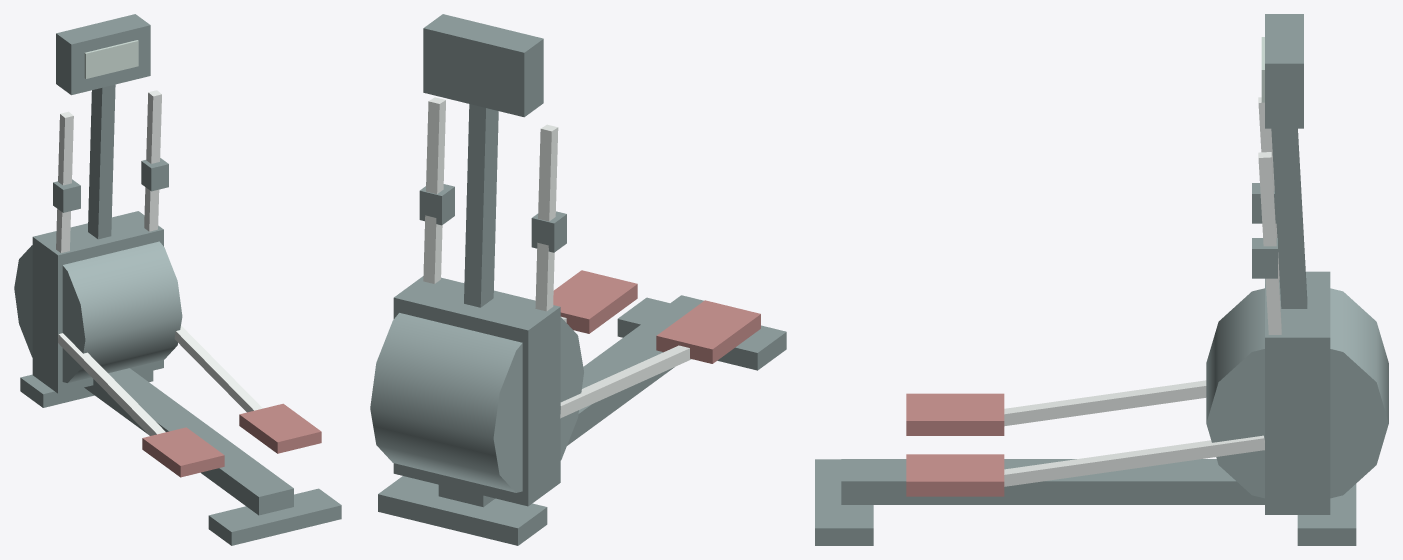
File: ellipticalTrainer.glb
The picture shows the model from 3 angles, left to right: view 1: azimuth 30°, elevation 25°; view 2: azimuth 150°, elevation 25°; view 3: azimuth 270°, elevation 25°; orthographic projection. The views are drawn at different scales.
Parts seen in each view (by area): view 1: ellipticalTrainer; view 2: ellipticalTrainer; view 3: ellipticalTrainer.
Part boxes in pixels (x1,y1,x2,y2): ellipticalTrainer: [14, 14, 341, 545]; ellipticalTrainer: [370, 14, 786, 545]; ellipticalTrainer: [815, 14, 1388, 545].
Size of the model in its own units: 0.32 by 0.8 by 0.88.
